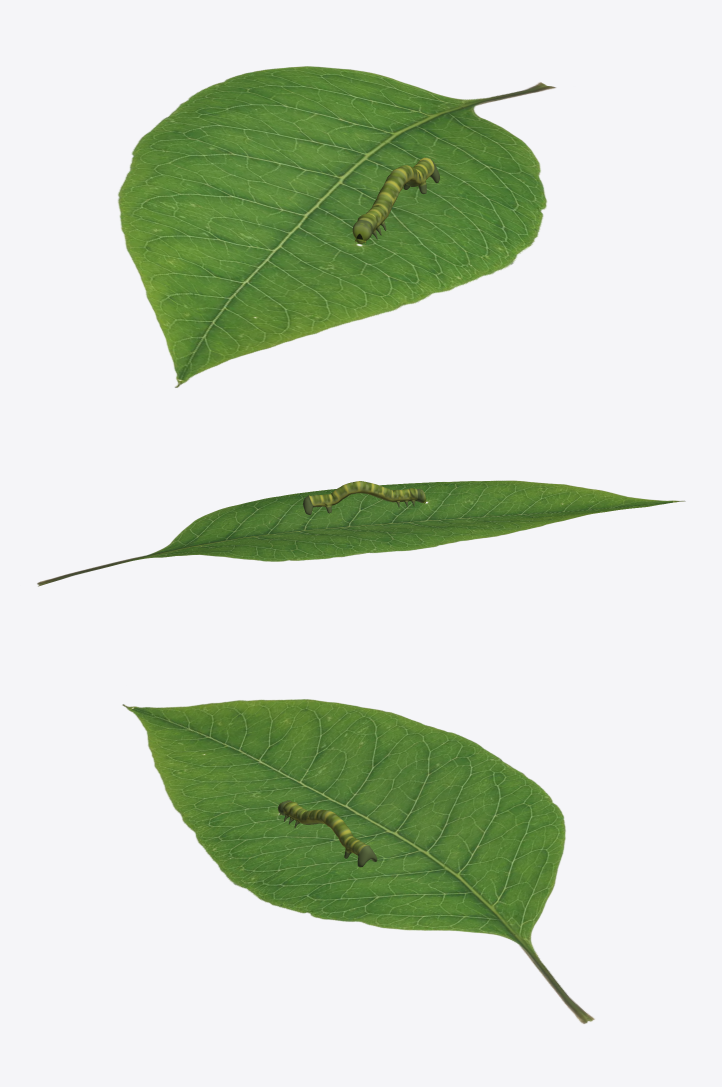
Rendered from chenille_3D.glb.
3 renders of one model, top to bottom at view 1: azimuth 30°, elevation 25°; view 2: azimuth 150°, elevation 25°; view 3: azimuth 270°, elevation 25°, orthographic. The views are drawn at different scales.
Parts seen in each view (by area): view 1: Leaf_1, Caterpillar_0; view 2: Leaf_1, Caterpillar_0; view 3: Leaf_1, Caterpillar_0.
Boxes of the visible parts, box(x1,y1,x2,y2) form: Leaf_1: box(117, 66, 556, 387); Caterpillar_0: box(352, 157, 439, 244); Leaf_1: box(37, 480, 685, 586); Caterpillar_0: box(303, 481, 426, 514); Leaf_1: box(122, 699, 594, 1024); Caterpillar_0: box(278, 800, 377, 867).
Bounding box in the file's own units: 56.64 × 8.98 × 50.66.
Materials: 2 (2 with a texture image).
